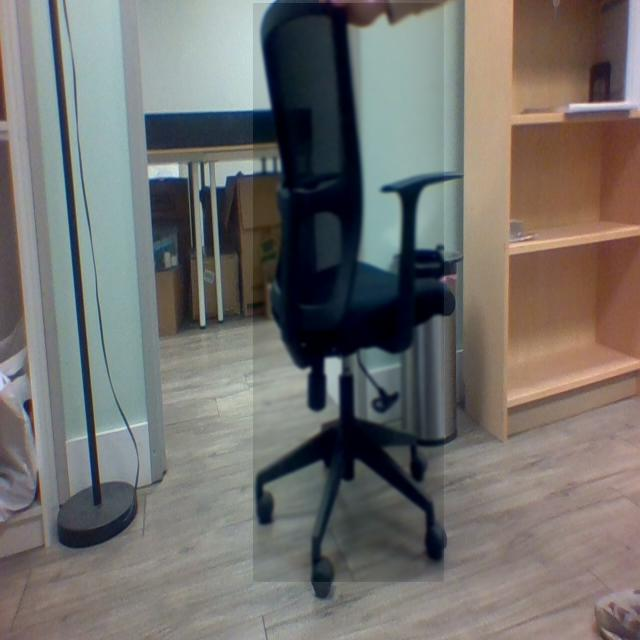black-chair: (253, 3, 445, 583)
